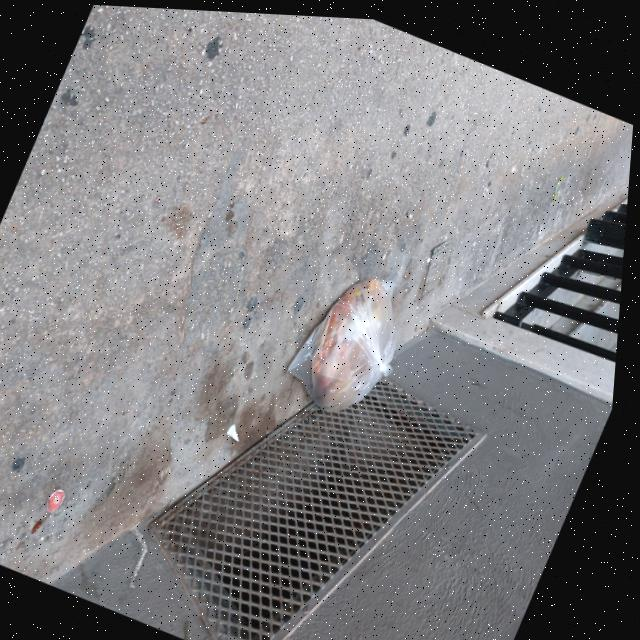Organic Waste -White Bag-: (274, 243, 437, 429)
